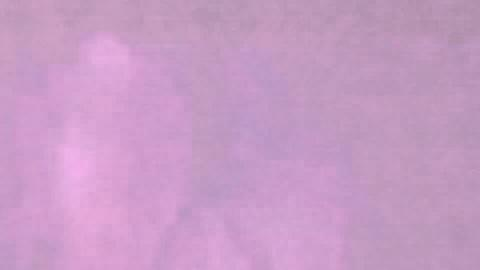tomato: (162, 81, 466, 269), (3, 110, 160, 269), (468, 111, 478, 269)
